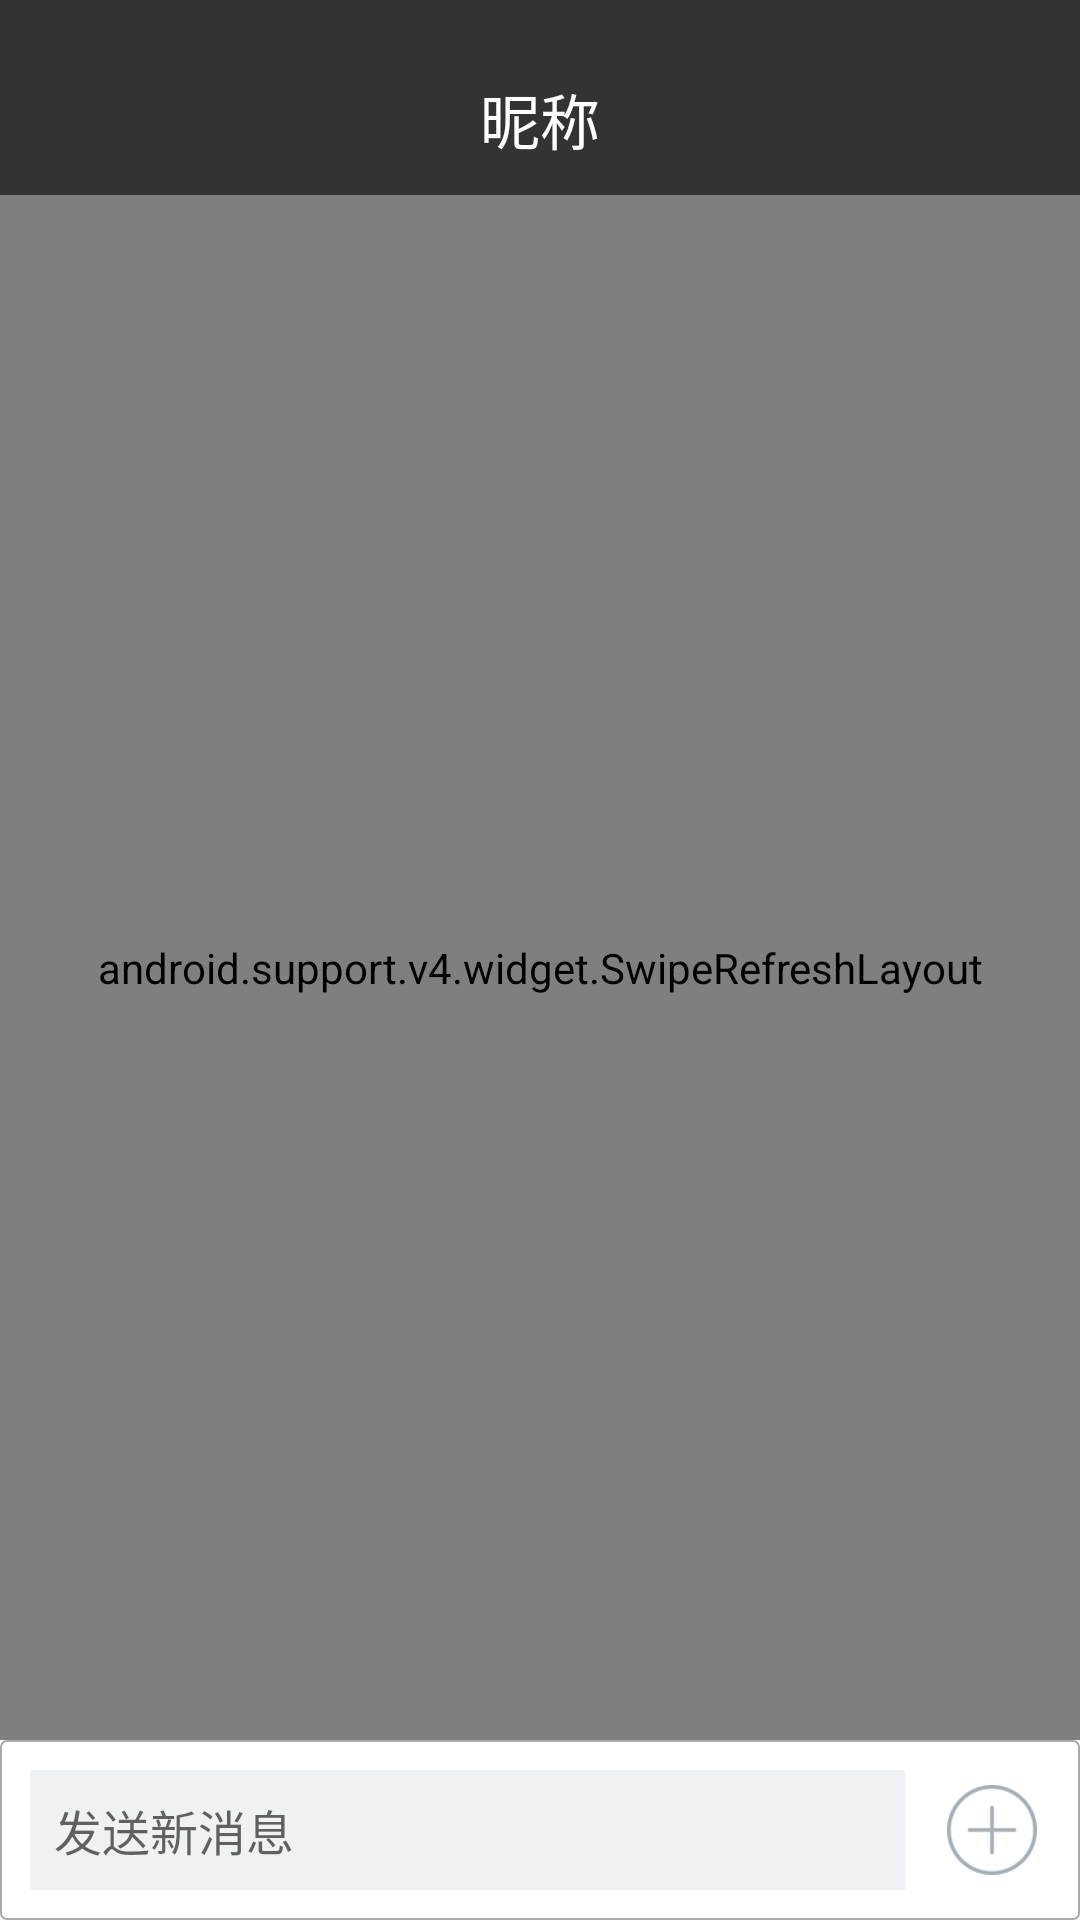

Point at icon controls on the screen. Image size 1080px×1920px, points as point (x, y).
chat add: point (992, 1830)
